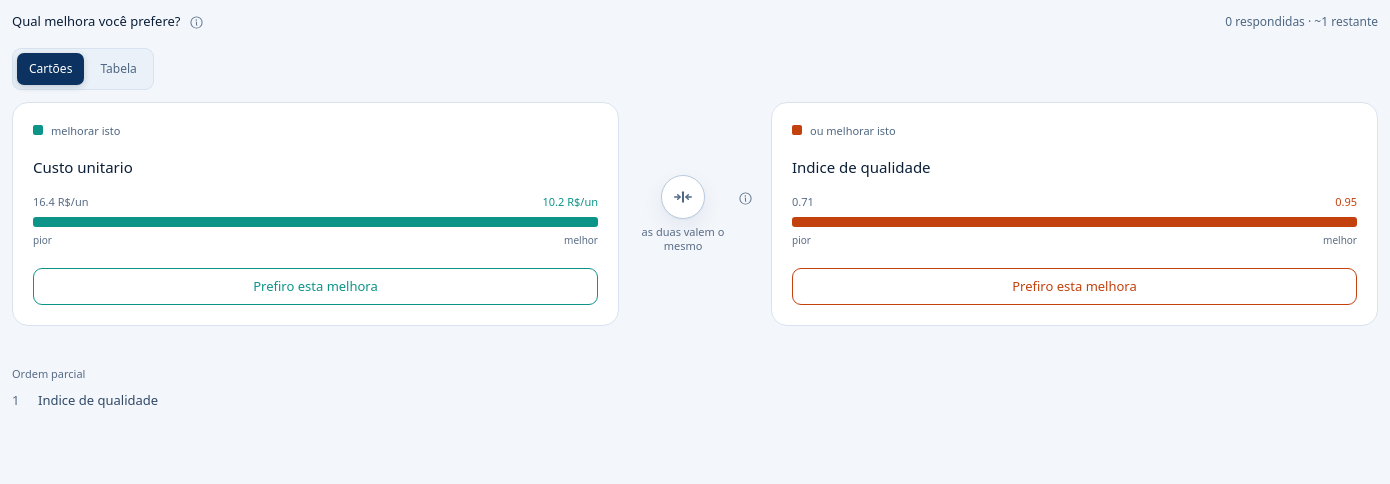
Test: ComparacaoPares em tabela › mostra A e B com a melhor em azul e a pior em vermelho
Step 1. Click the radio button labelled "Tabela" → (119, 69), box [88,53,149,85]
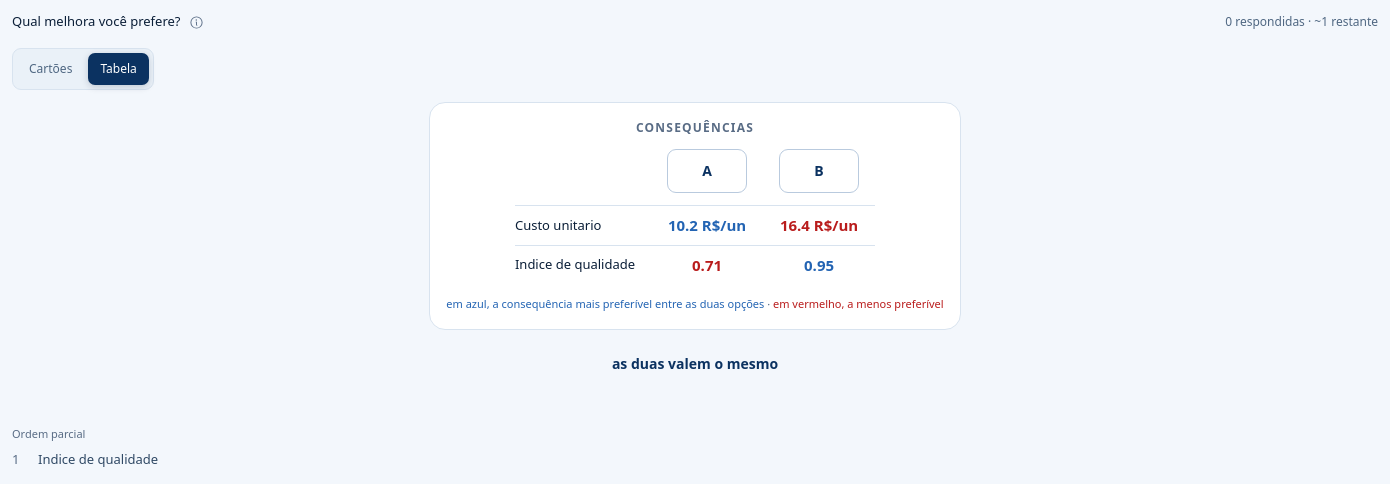
Expected: the text "em azul, a consequência mais preferível entre as duas opções" is shown, [446,296,764,311]
